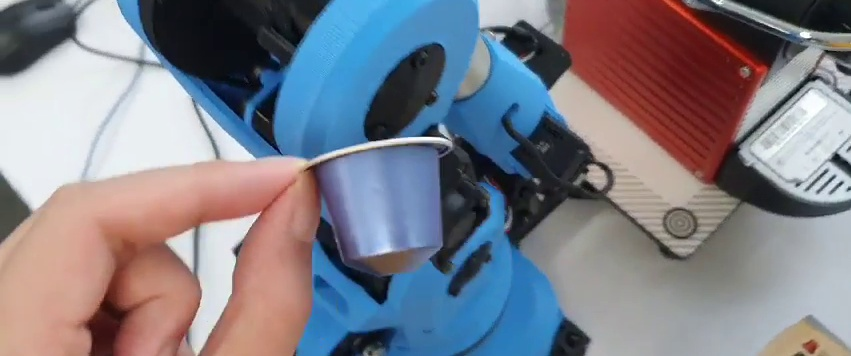capsule_7: (300, 135, 455, 279)
